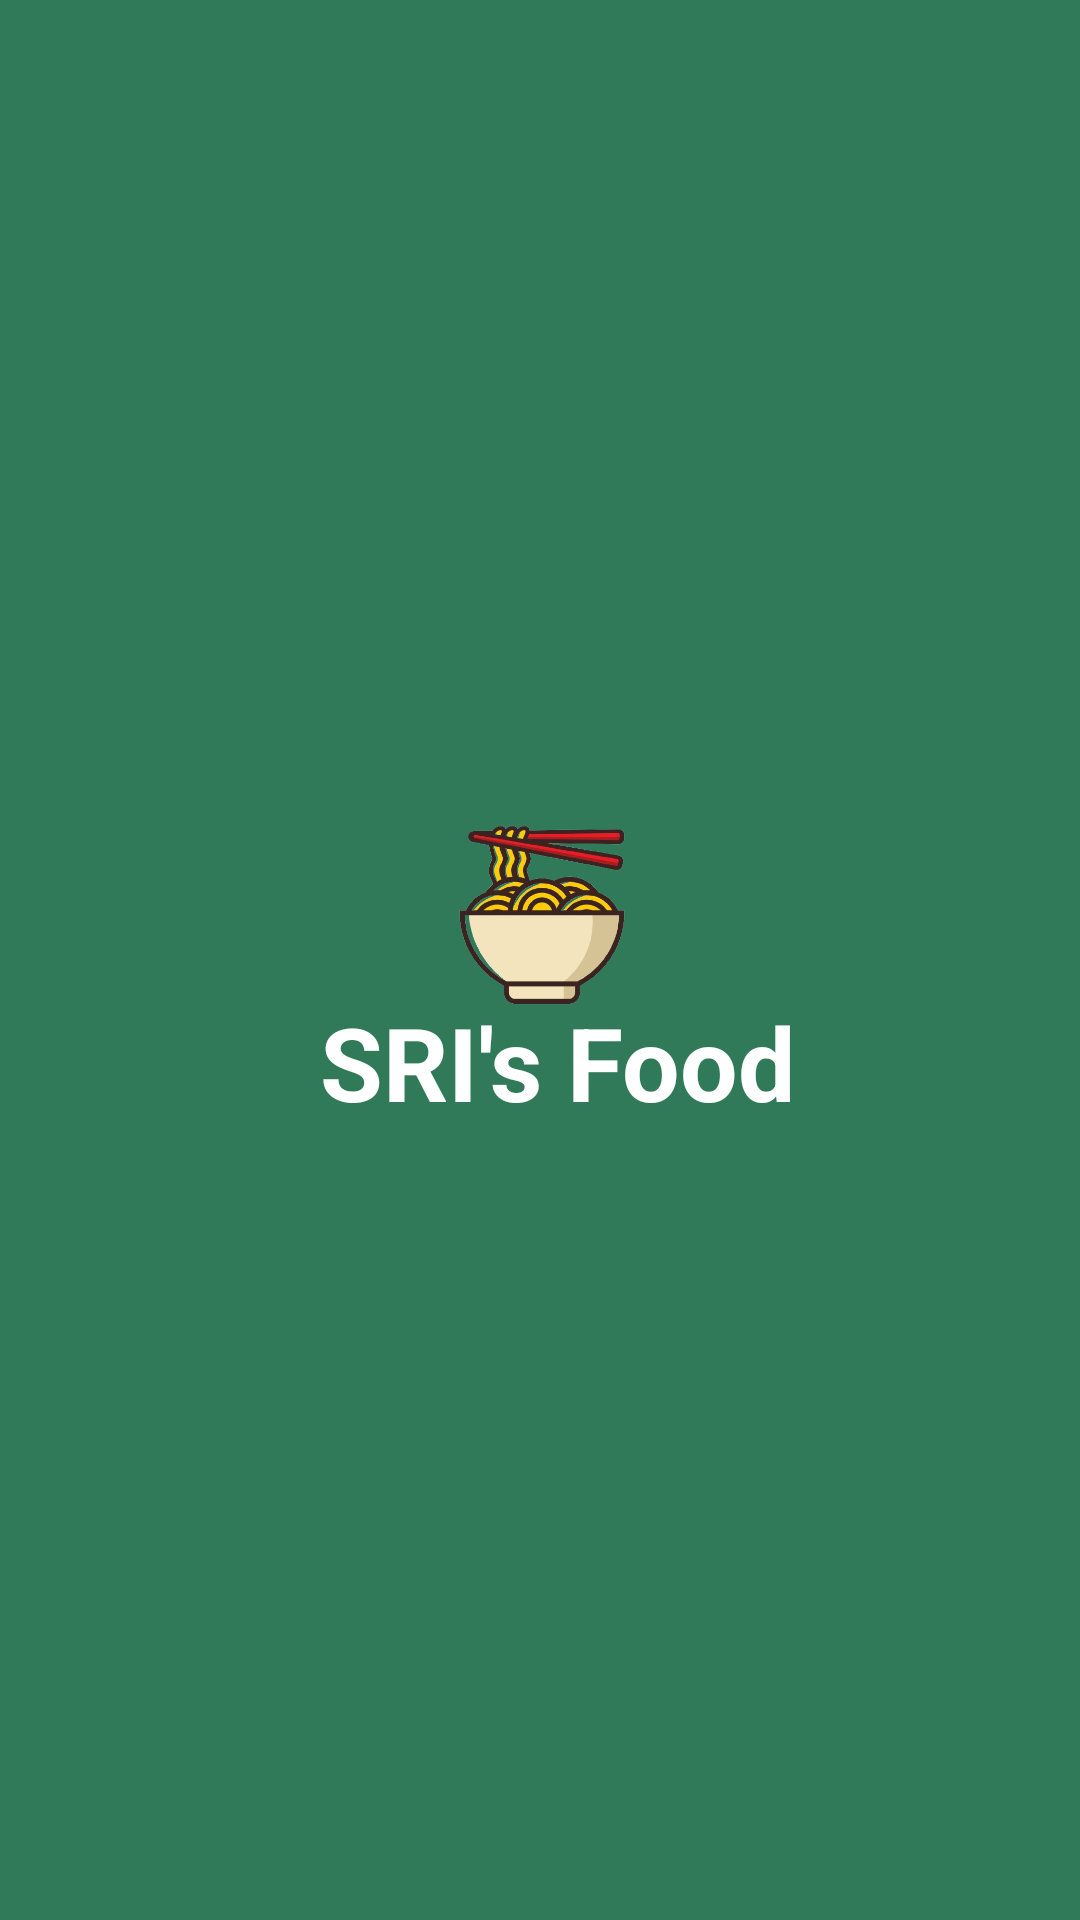

Screen size 1080w x 1920h. Icon name, then its center in pixels as [x,y]:
noodle: [542,939]
